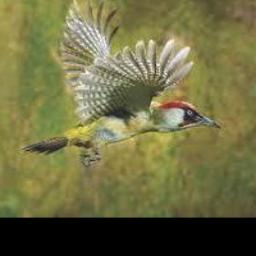Woodpecker: (20, 0, 221, 166)
